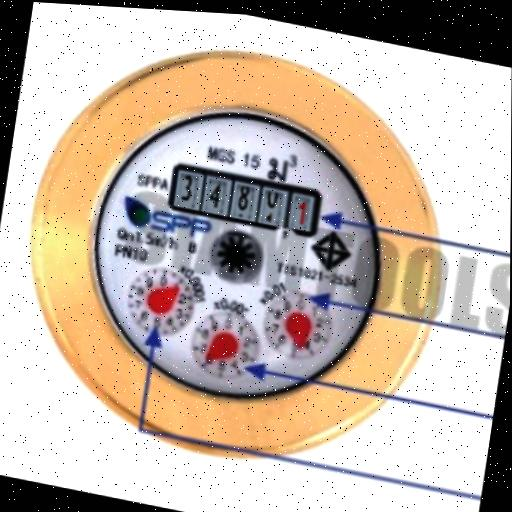0: (263, 192, 282, 227)
1: (293, 197, 312, 231)
3: (177, 175, 198, 210)
4: (206, 180, 225, 216)
8: (233, 185, 255, 220)
border_water_meter_number: (167, 161, 323, 240)
